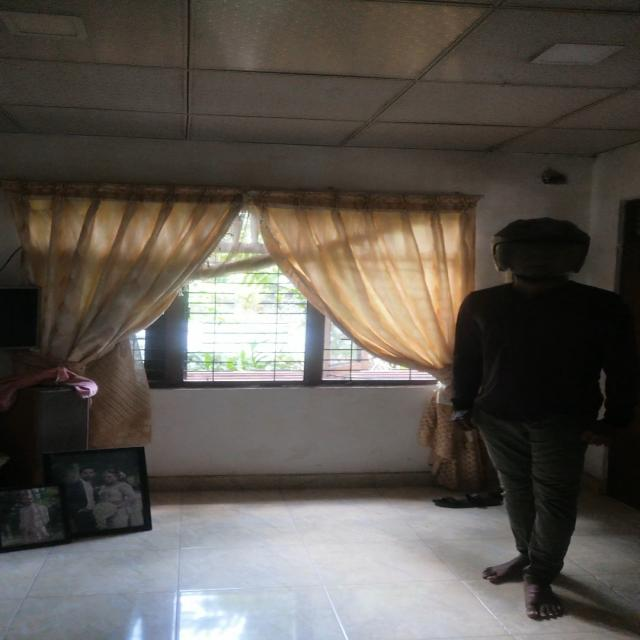Helmet_Wearer: (481, 216, 600, 299)
Person: (455, 211, 618, 612)
